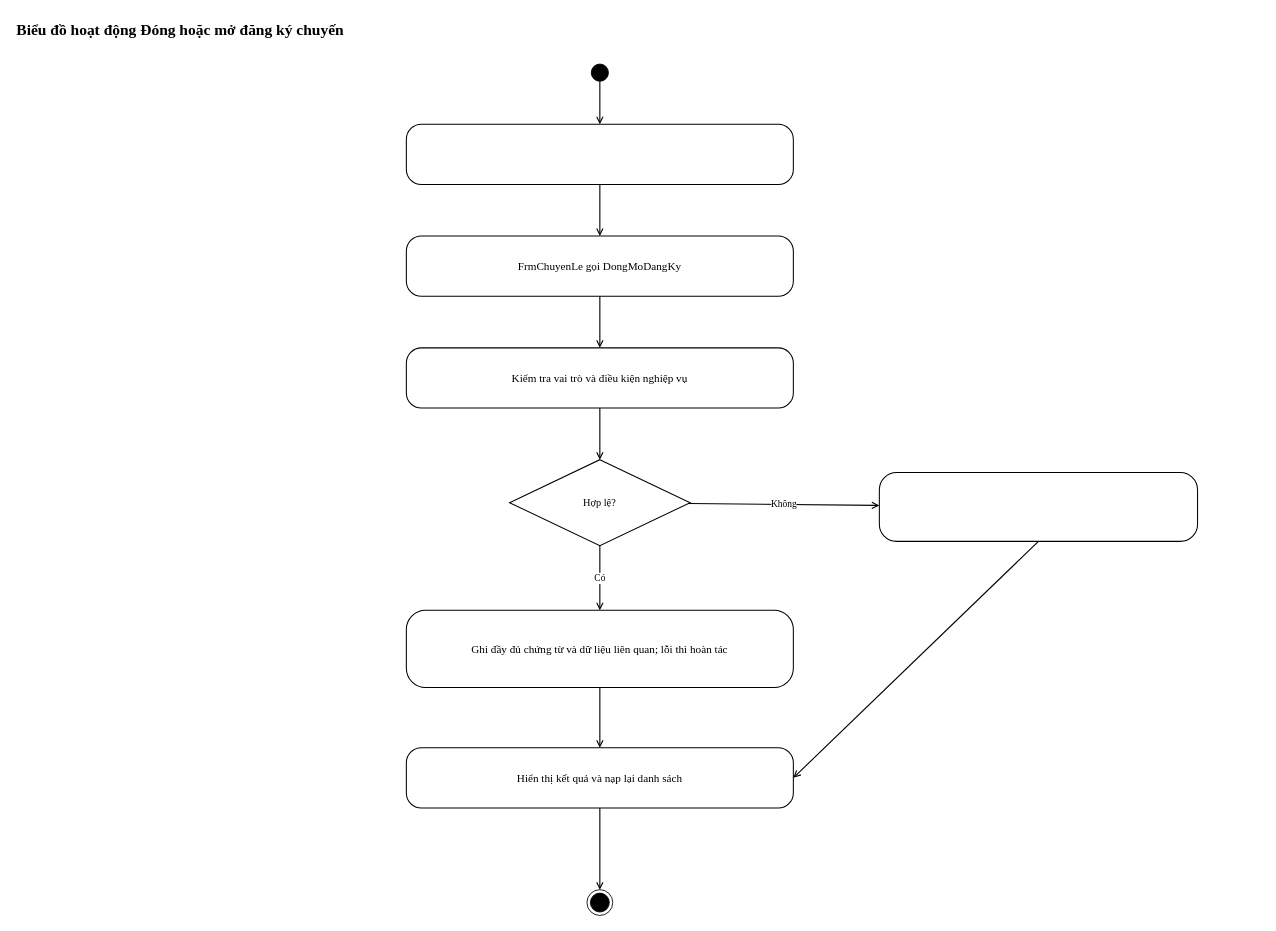
The diagram is 1276 pixels wide and 931 high, and some of its shapes have lost their labels. Each missing label, with the centre of its shape:
Báo nguyên nhân; giữ dữ liệu cũ: [1038,506]
Nhập dữ liệu cho Đóng hoặc mở đăng ký chuyến: [599,154]
